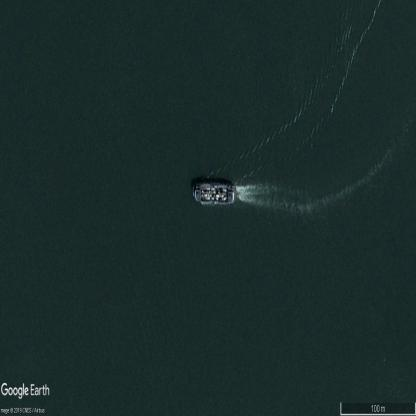ship: (193, 179, 235, 209)
